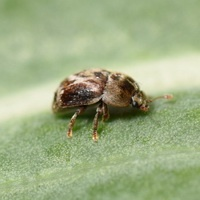insect: (52, 69, 150, 140)
